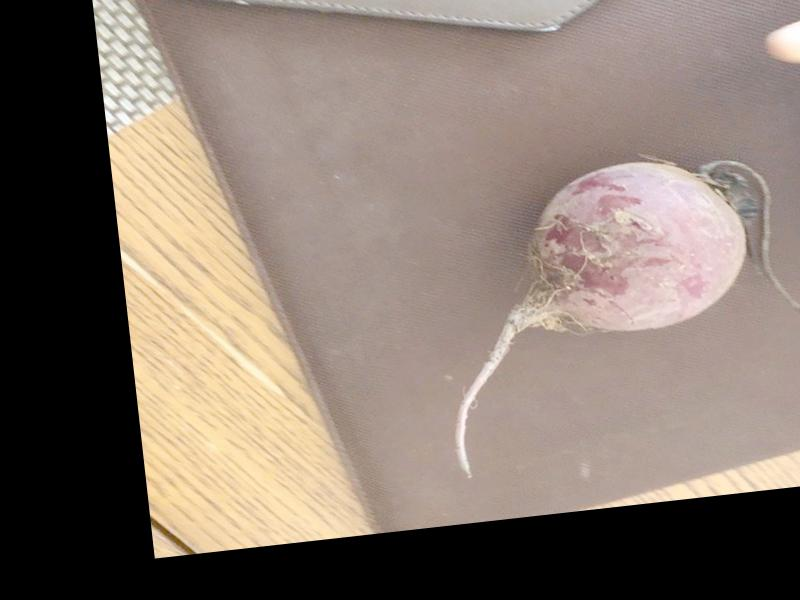Beet: (425, 145, 800, 476)
